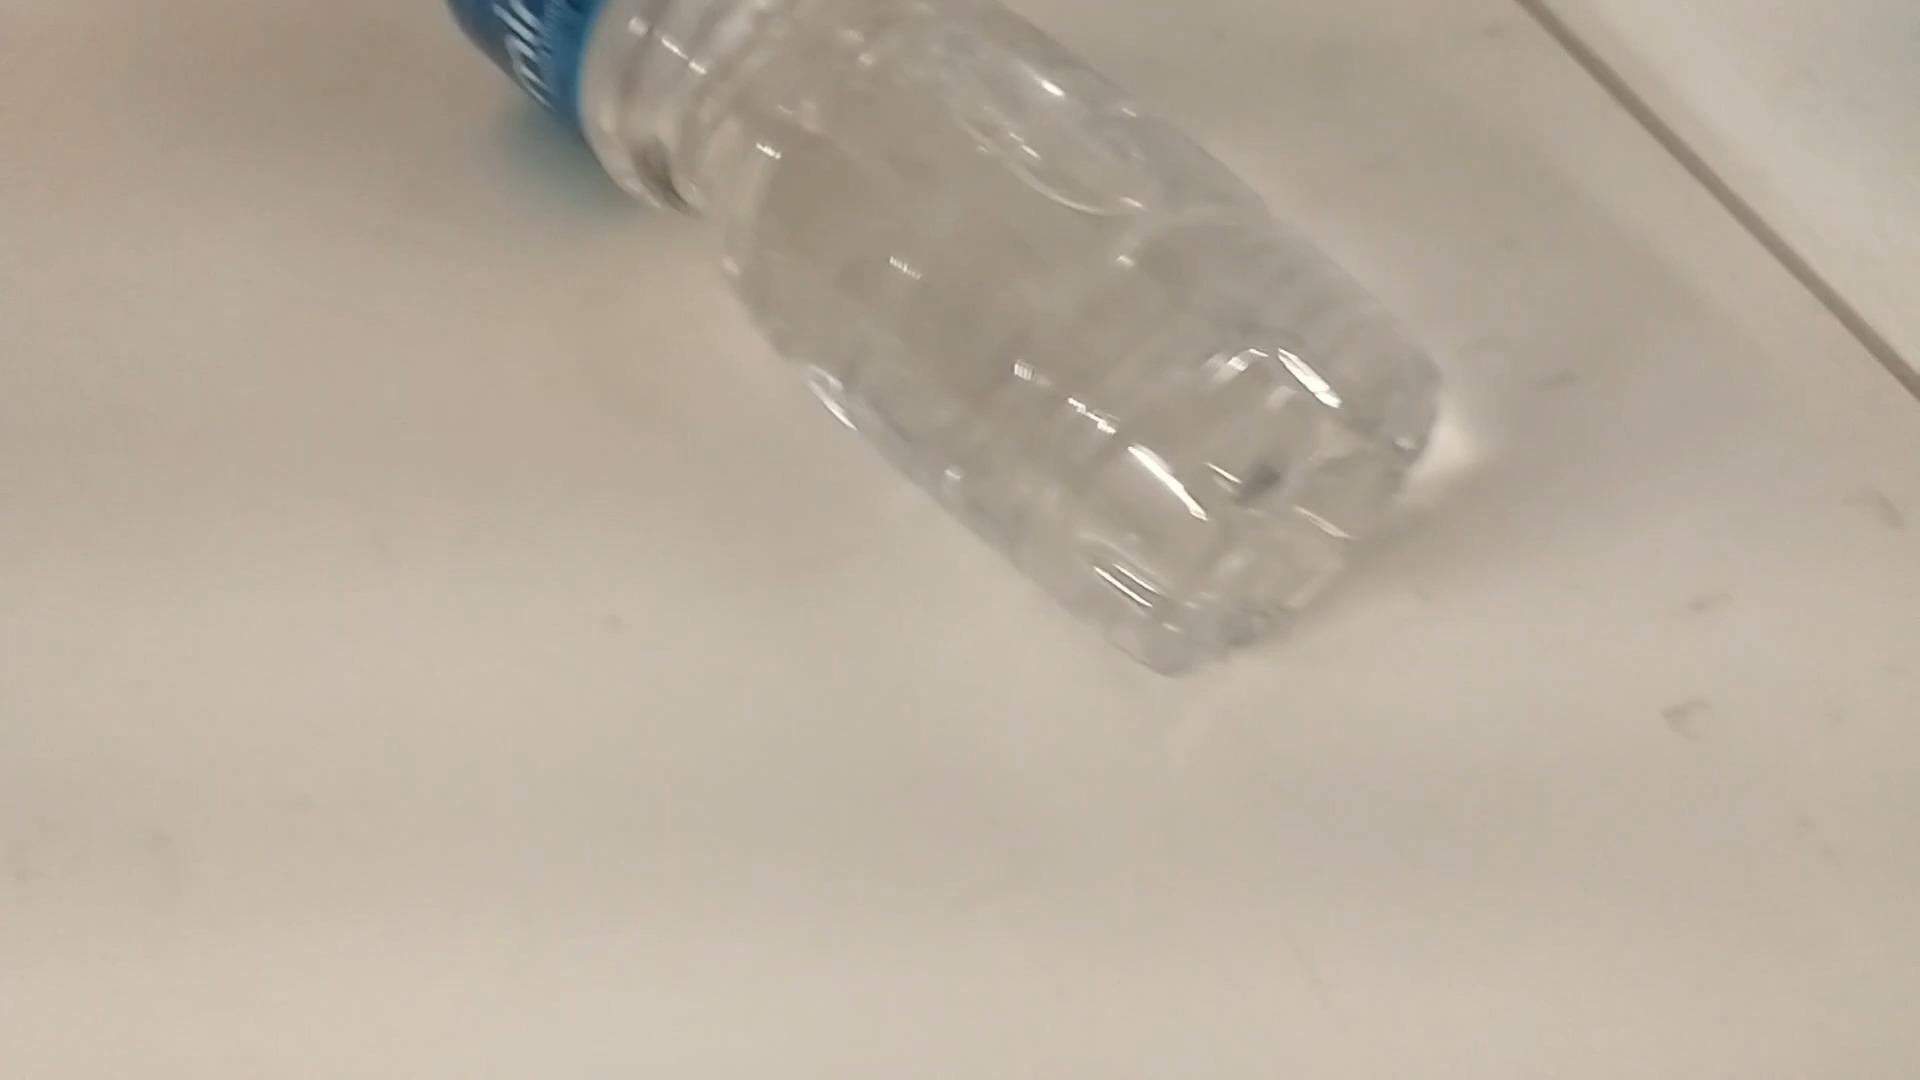agua: (439, 5, 1418, 673)
